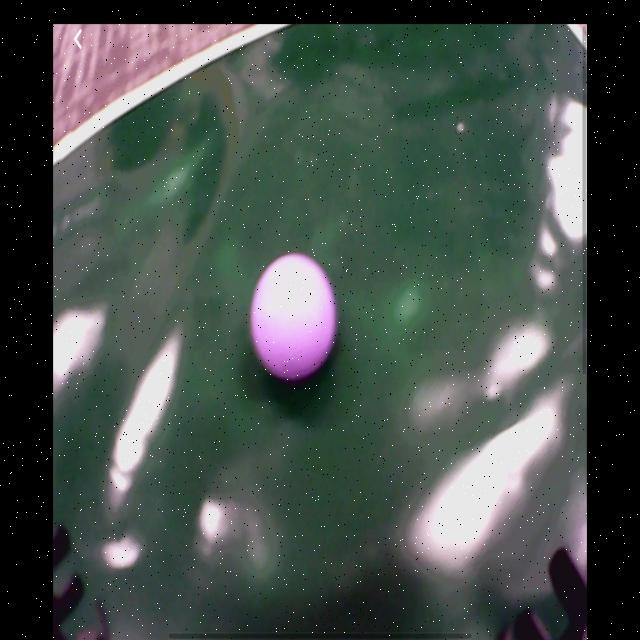ball: (250, 258, 343, 382)
